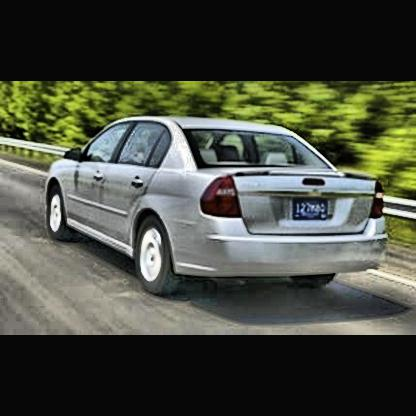Chevrolet Malibu Sedan 2007: (44, 115, 393, 297)
